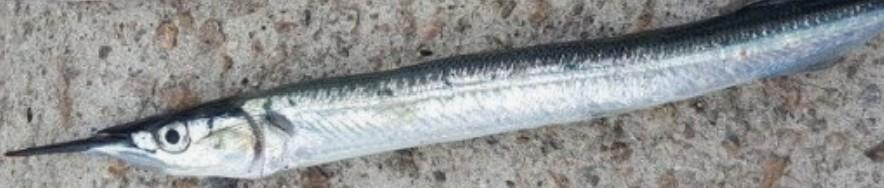fish: (3, 0, 883, 181)
